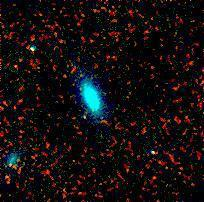star: (70, 100, 100, 130)
